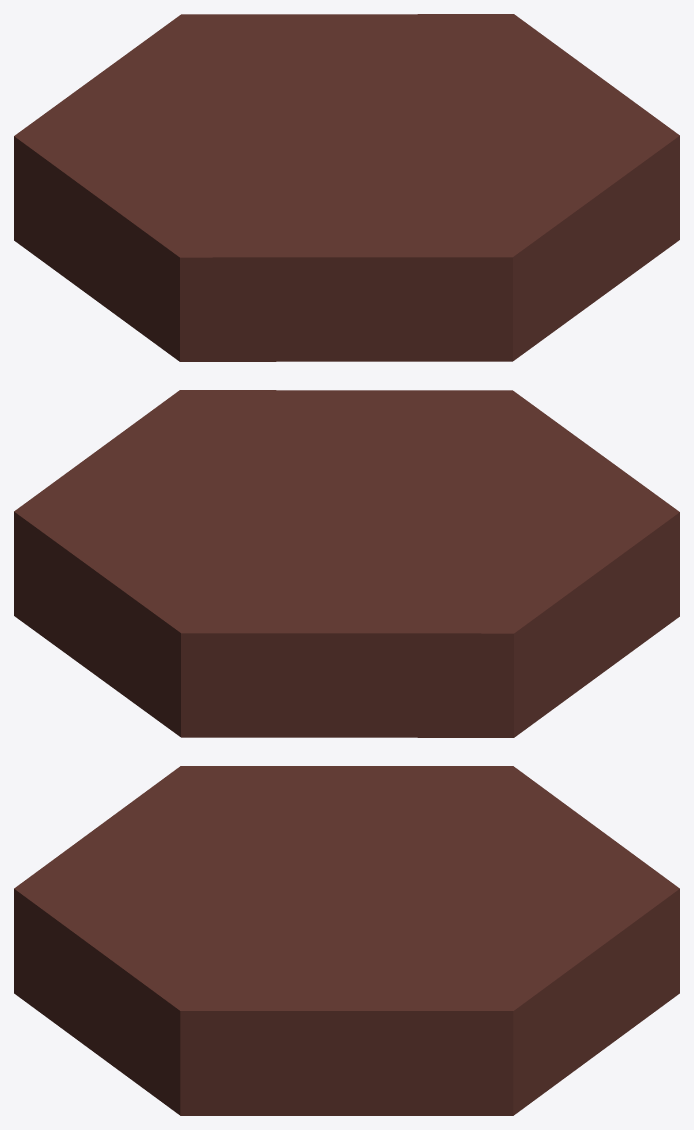
Rendered from Hex4.fbx.
3 renders of one model, top to bottom at view 1: azimuth 30°, elevation 25°; view 2: azimuth 150°, elevation 25°; view 3: azimuth 270°, elevation 25°, orthographic.
Visible parts, largest first — view 1: Hex4; view 2: Hex4; view 3: Hex4.
Part boxes in pixels (bbox=[...]): Hex4: bbox=[14, 14, 679, 361]; Hex4: bbox=[14, 390, 679, 737]; Hex4: bbox=[14, 766, 679, 1115].
Bounding box in the file's own units: 1 × 0.2003 × 1.15.
